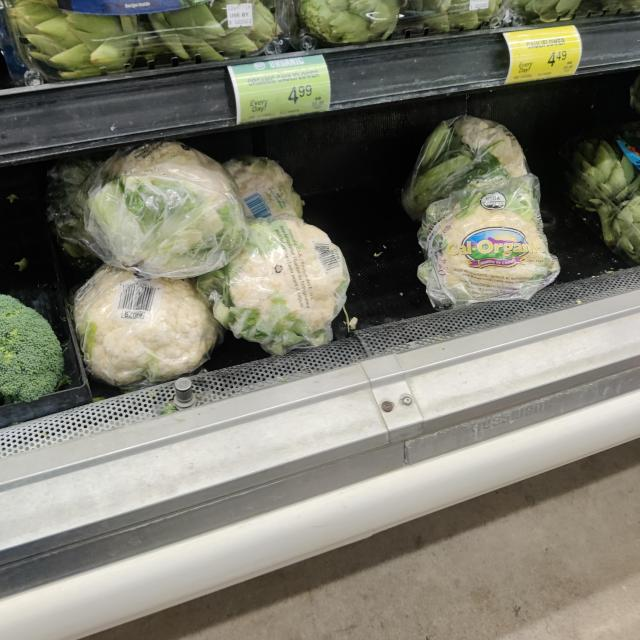Broccoli: (0, 294, 66, 403)
Cauliflower: (53, 139, 251, 276), (197, 219, 352, 353), (74, 266, 224, 391), (425, 172, 562, 300), (404, 116, 532, 221)
